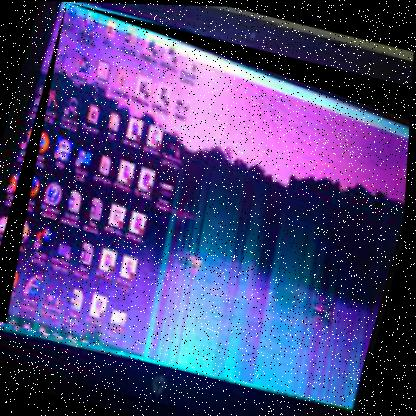fade: (0, 0, 415, 409)
